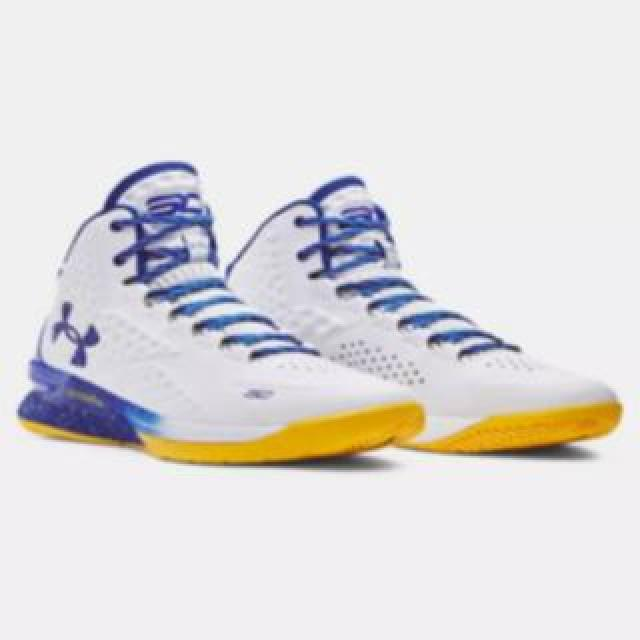shoe: (15, 160, 423, 466), (189, 175, 621, 455)
